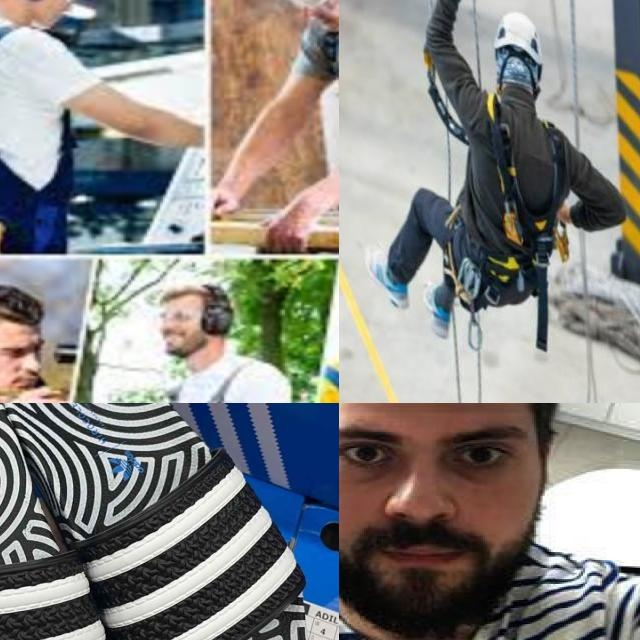Ear-protection: (0, 267, 50, 403), (155, 285, 238, 365), (0, 0, 93, 40)
Harness: (488, 93, 565, 352)
No_Glasses: (339, 405, 546, 487)
Sandals: (0, 403, 327, 640)
face_nomask: (339, 403, 542, 640)
person: (339, 403, 640, 640), (0, 0, 154, 256), (217, 0, 339, 248)
